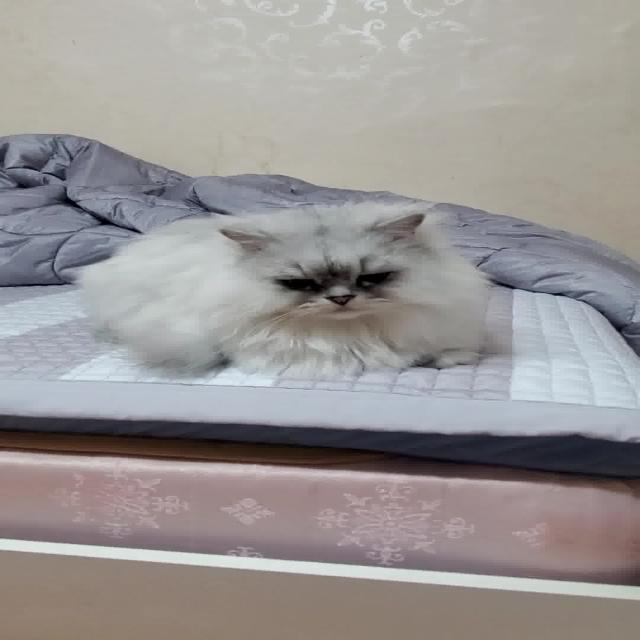cat: (53, 191, 520, 384)
